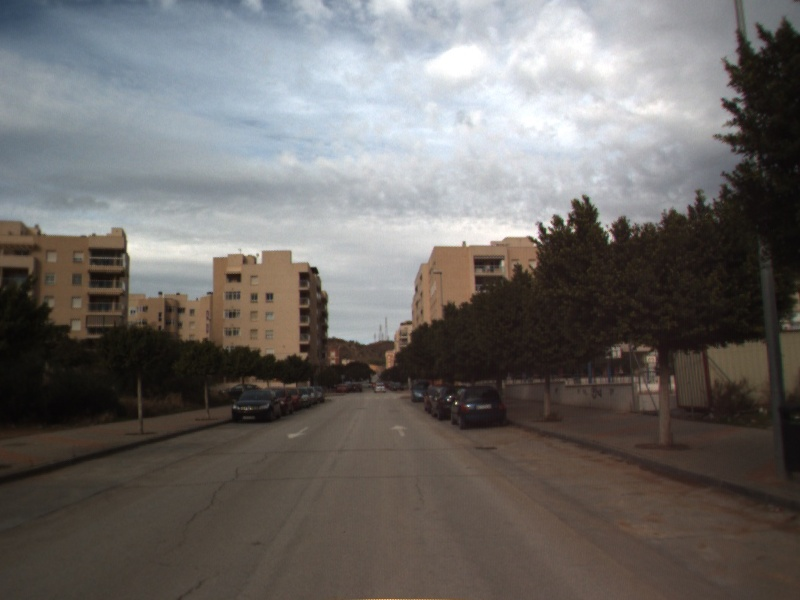STRAIGHT: (387, 423, 411, 438)
